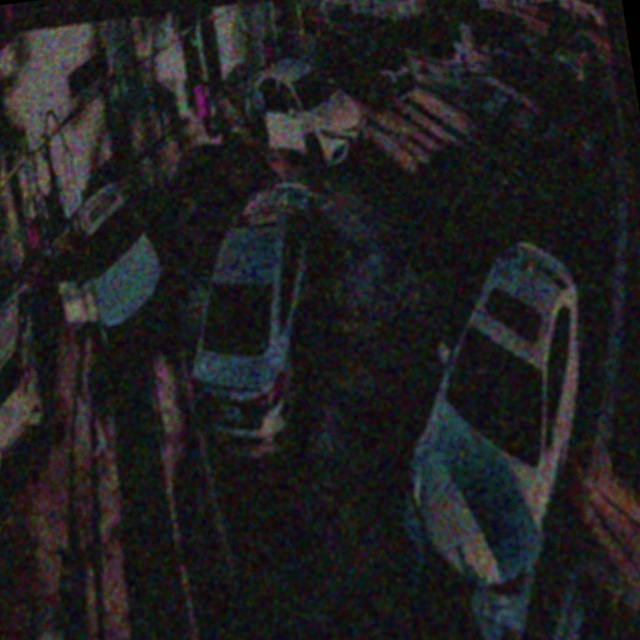Car: (373, 233, 628, 640), (168, 177, 344, 471), (59, 181, 176, 366), (240, 50, 370, 175)
